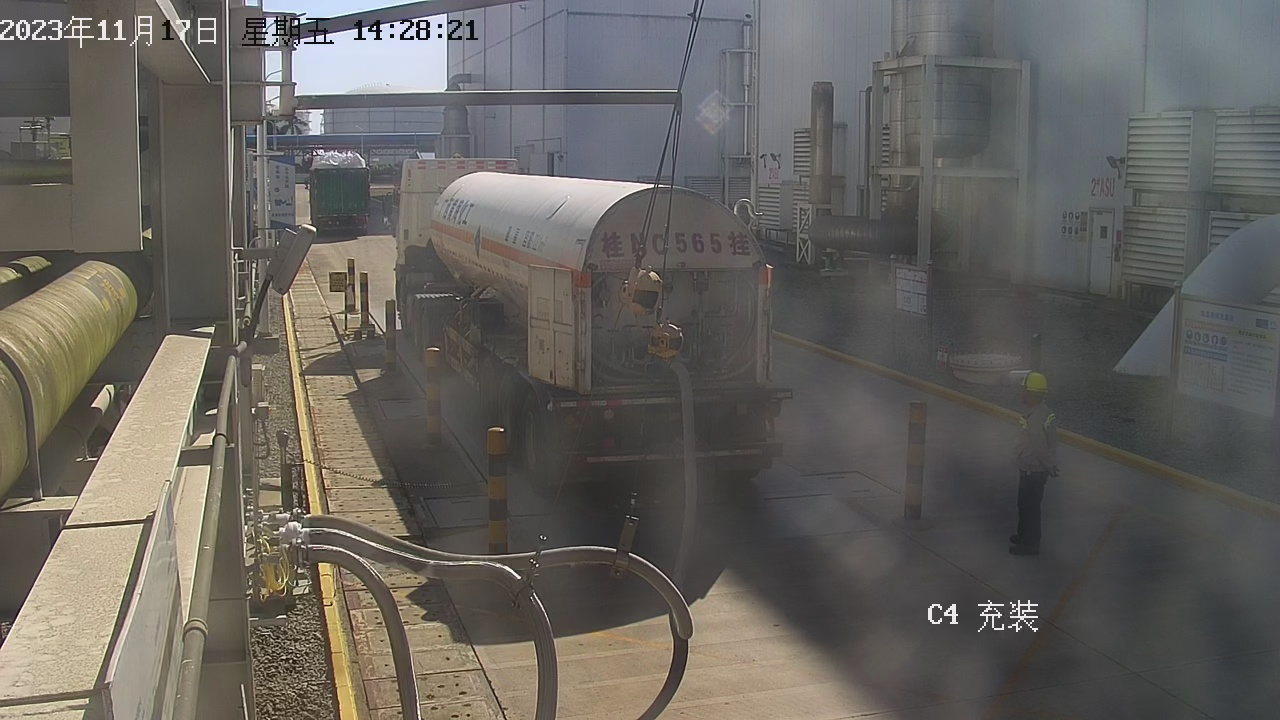Head_with_Helmet: (995, 359, 1067, 408)
Uniform: (974, 390, 1083, 561)
